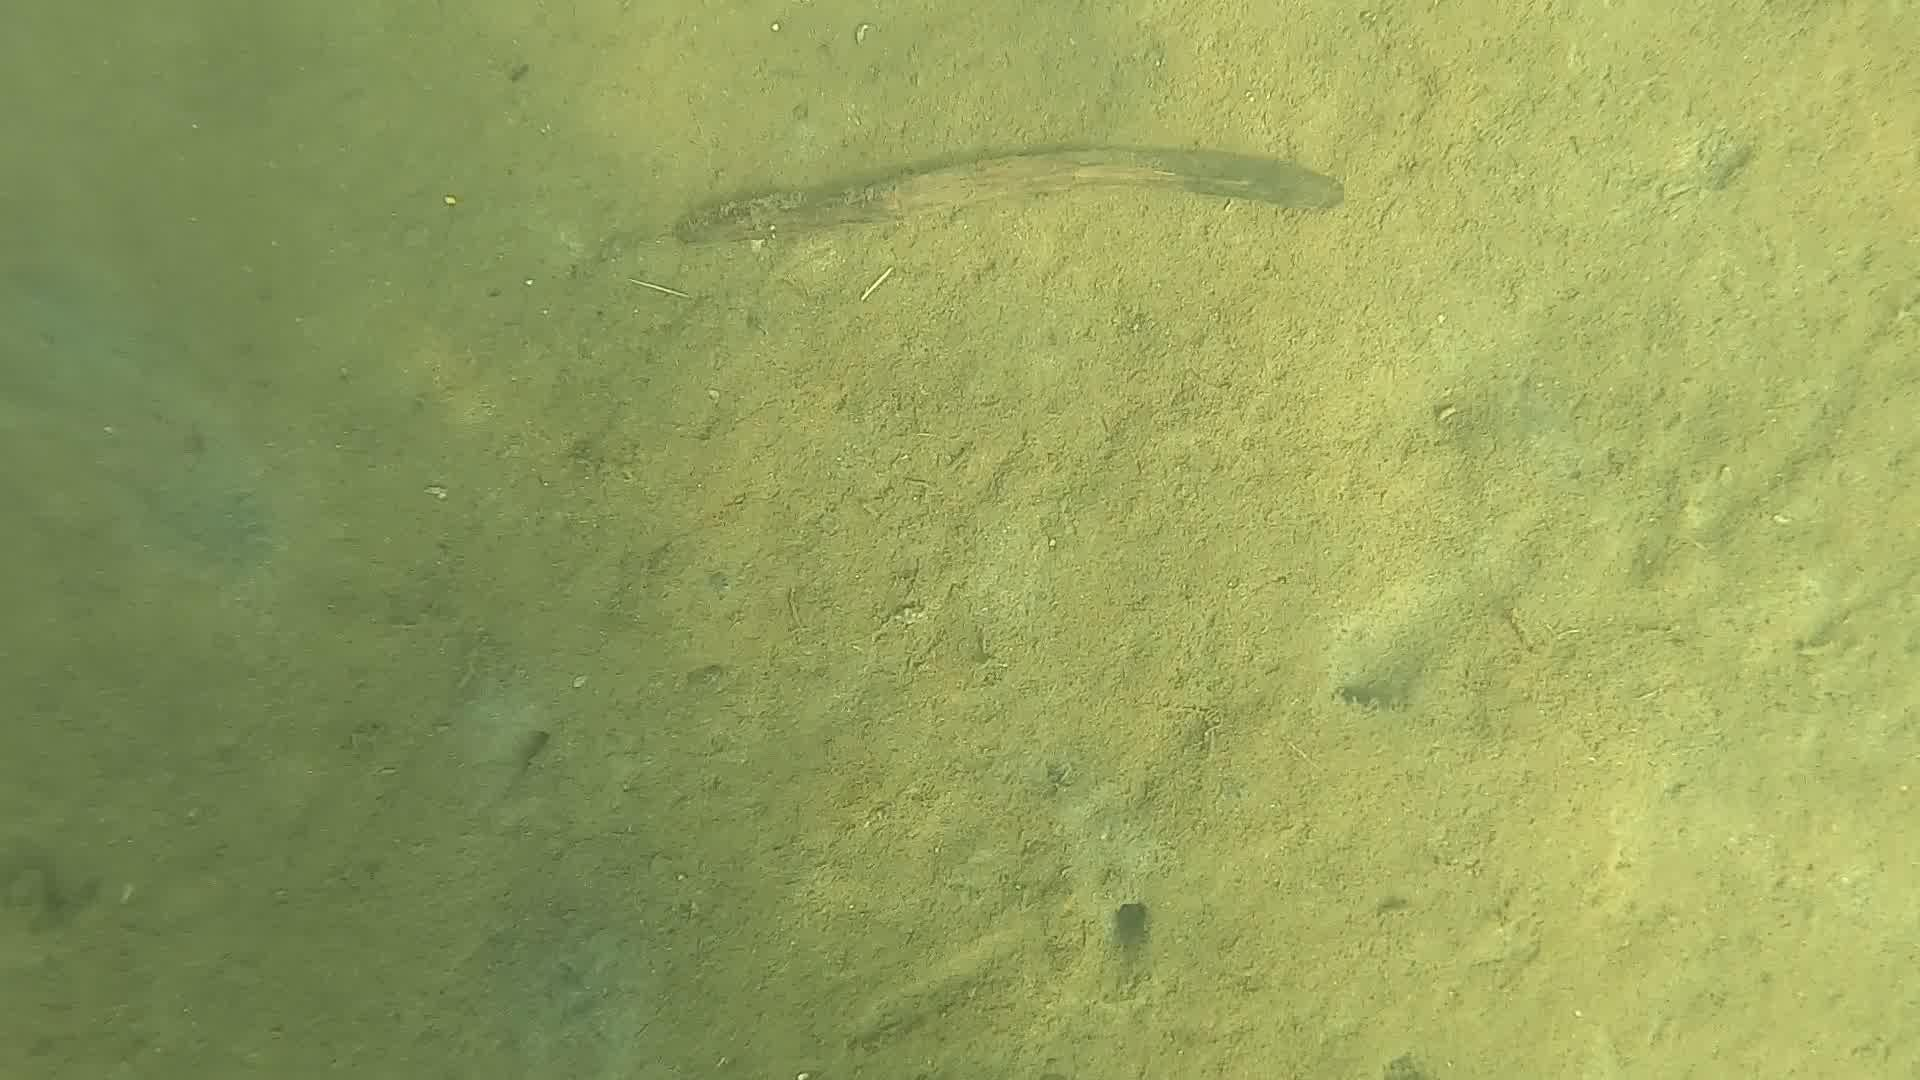wood: (670, 142, 1346, 247)
